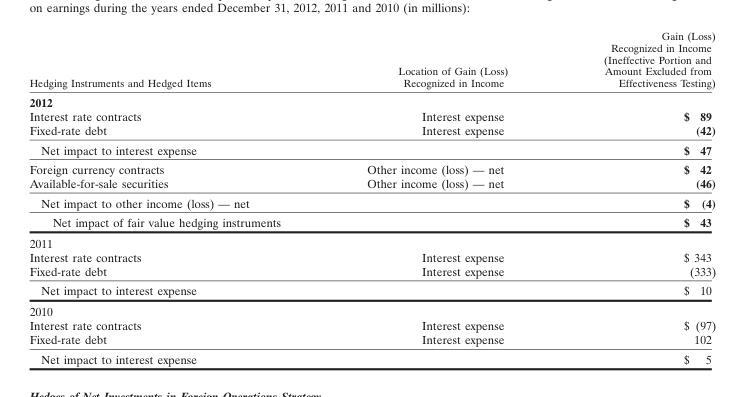table: (28, 28, 715, 365)
table column: (28, 28, 323, 365), (323, 28, 555, 365), (555, 28, 715, 365)
table column header: (28, 28, 715, 91)
table projected row header: (28, 300, 715, 318), (28, 91, 715, 108), (28, 232, 715, 249)
table row: (28, 28, 715, 91), (28, 139, 715, 159), (28, 192, 715, 212), (28, 212, 715, 232), (28, 280, 715, 300), (28, 300, 715, 318), (28, 91, 715, 108), (28, 122, 715, 139), (28, 175, 715, 192), (28, 232, 715, 249), (28, 263, 715, 280), (28, 332, 715, 349), (28, 159, 715, 175), (28, 349, 715, 365), (28, 108, 715, 122), (28, 249, 715, 263), (28, 318, 715, 332)
